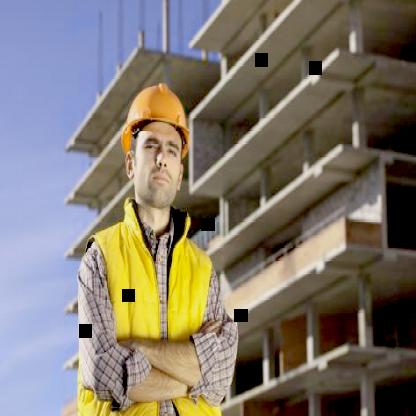helmet: (115, 71, 200, 218)
